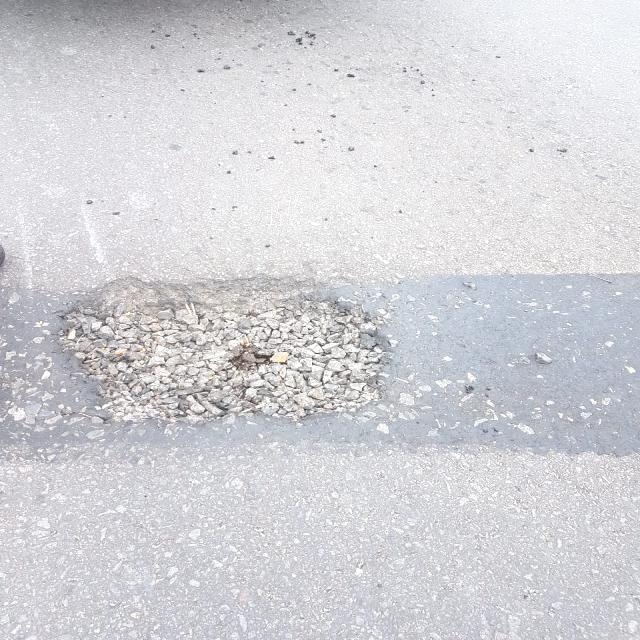Buraco: (48, 270, 398, 431)
